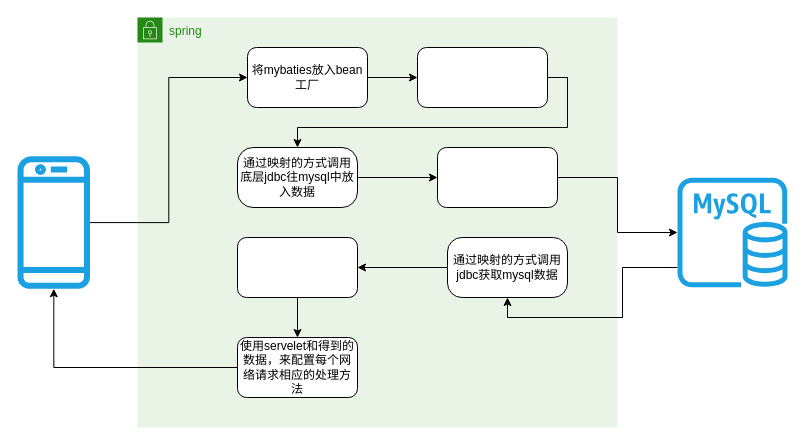
Image size: 805x445. Some labels were removed from this diagram. The centre of each missing label's shape, as x and y in pixels:
"sql映射依赖注入" belongs at [297,267].
"通过jdbc mybaties连接数据库" belongs at [497,177].
"配置mybaties的sql映射 即配置mapper层" belongs at [482,77].
